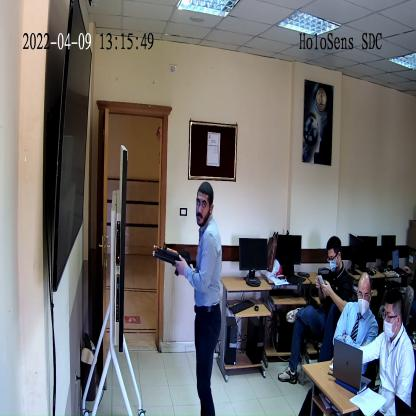handgun: (155, 244, 198, 276)
